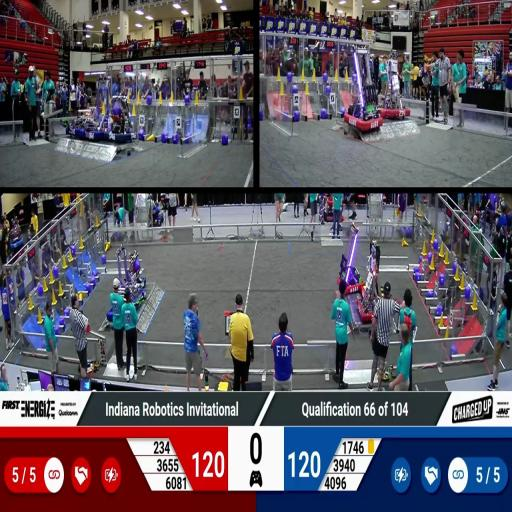robot: (340, 44, 384, 133), (377, 51, 412, 125), (357, 241, 388, 324), (338, 224, 366, 296), (112, 246, 144, 307), (107, 94, 139, 144), (88, 78, 112, 144), (62, 105, 92, 140), (126, 252, 152, 290), (360, 281, 384, 297)
